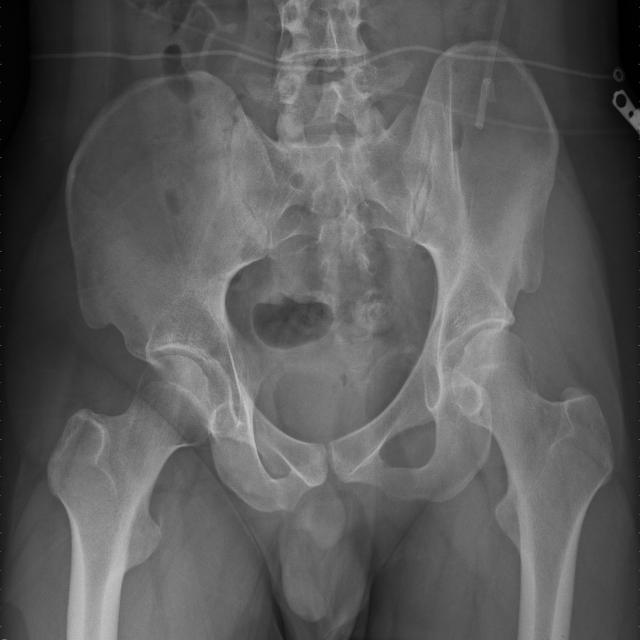normal-left: (452, 328, 615, 639)
normal-right: (47, 354, 215, 640)
